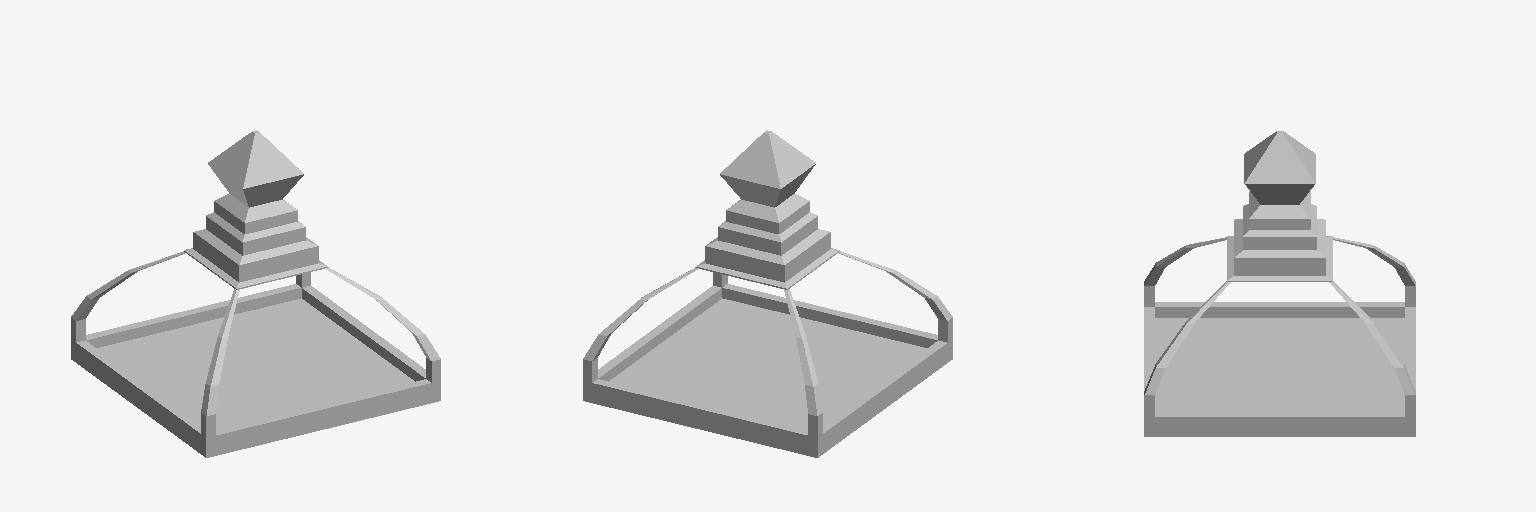
The model's file is 25x25OrnateRooftop.obj.
The picture shows the model from 3 angles: view 1: azimuth 30°, elevation 25°; view 2: azimuth 150°, elevation 25°; view 3: azimuth 270°, elevation 25°; orthographic projection.
Visible parts, largest first — view 1: polySurface9; view 2: polySurface9; view 3: polySurface9.
Part boxes in pixels (bbox=[...]): polySurface9: bbox=[71, 130, 440, 457]; polySurface9: bbox=[583, 130, 952, 457]; polySurface9: bbox=[1144, 131, 1415, 436].
Size of the model in its own units: 25 by 25.25 by 25.